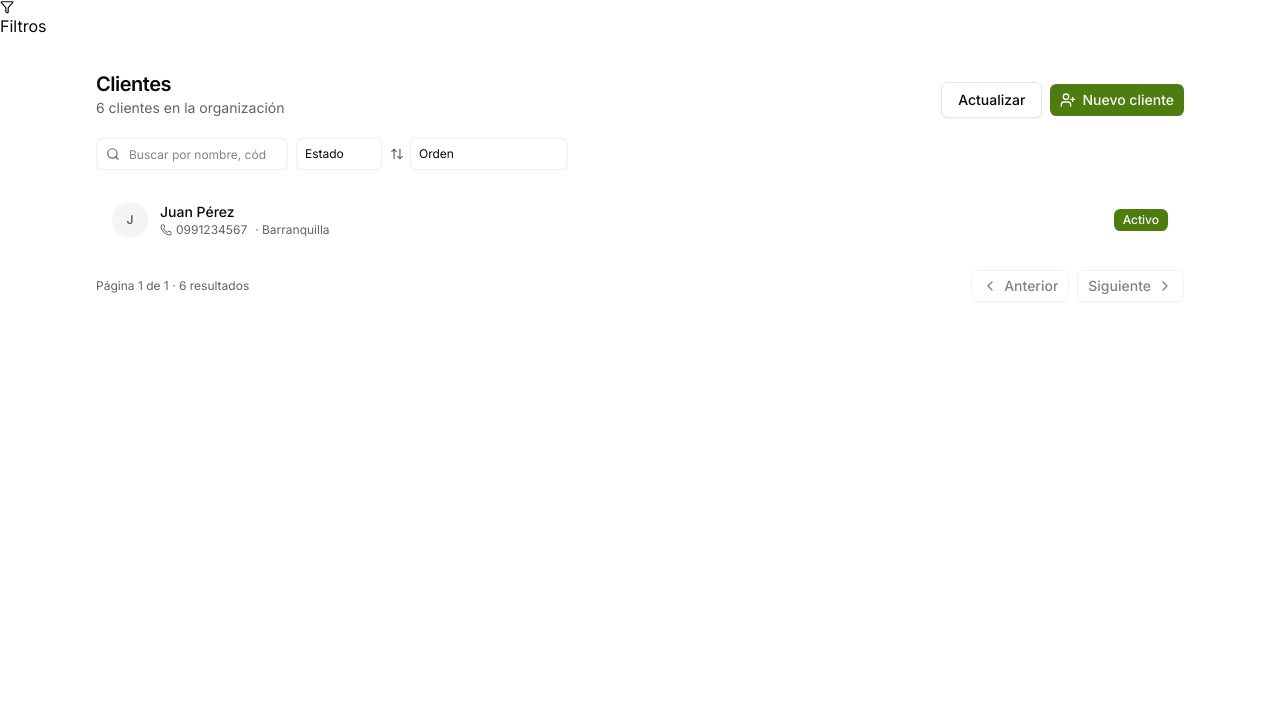
Clientes + filtro global: borrador y aplicación (FR-005) › el badge no cuenta el borrador y sí lo aplicado
Click the button "Filtros" at (23,19), box left=0, top=0, right=46, bottom=38
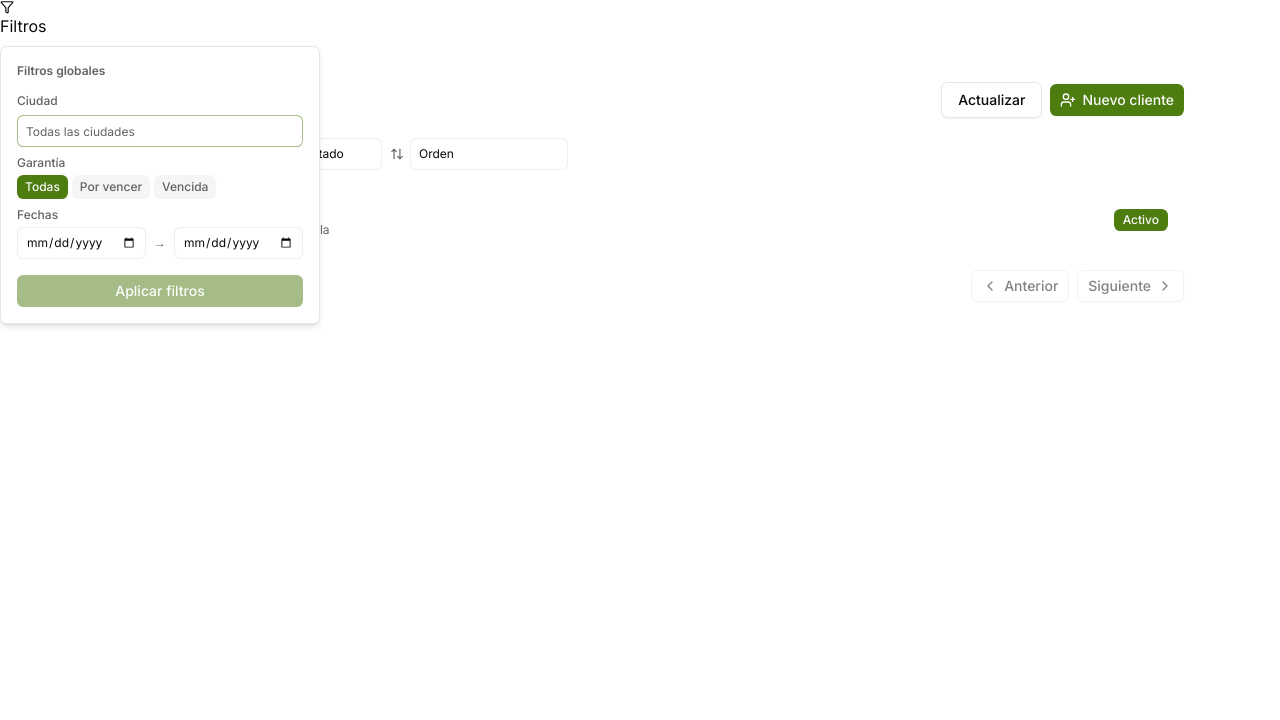
Check: the field labelled "Ciudad" is shown
Type "Barranquilla" into the field labelled "Ciudad" at (160,131), box left=17, top=115, right=303, bottom=147
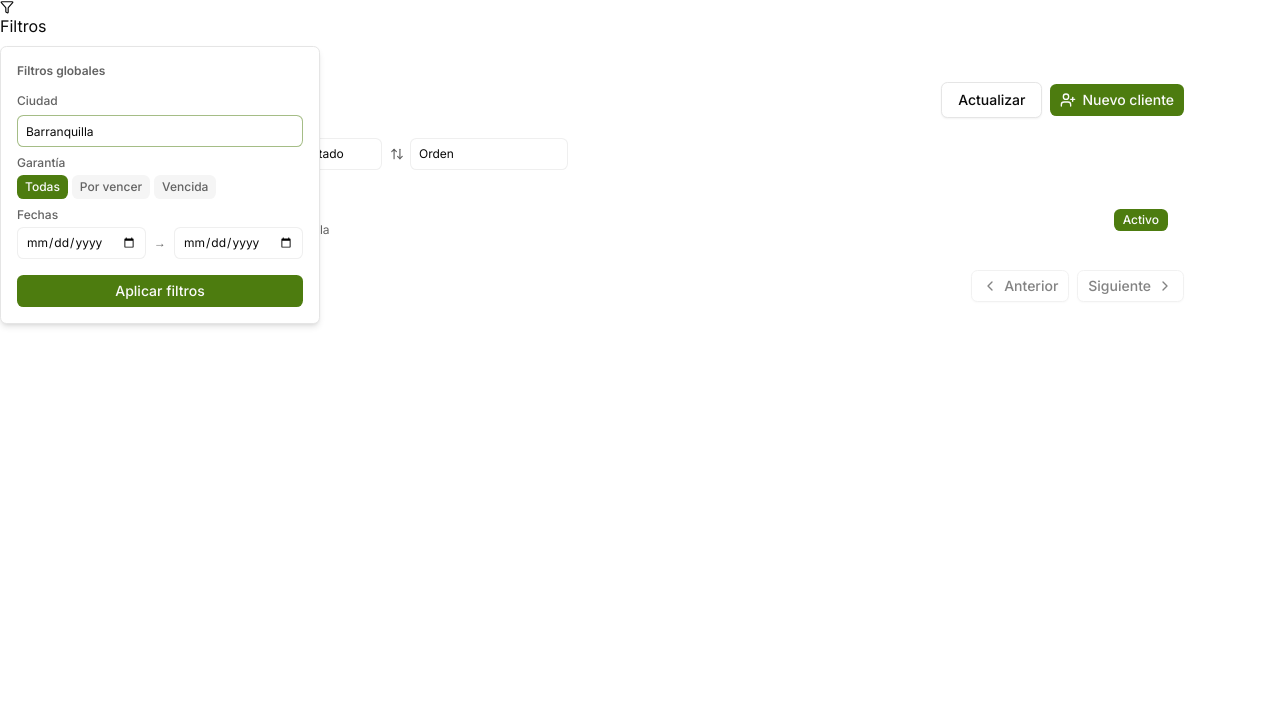
Click the button "Por vencer" at (111,187), box left=72, top=175, right=150, bottom=199
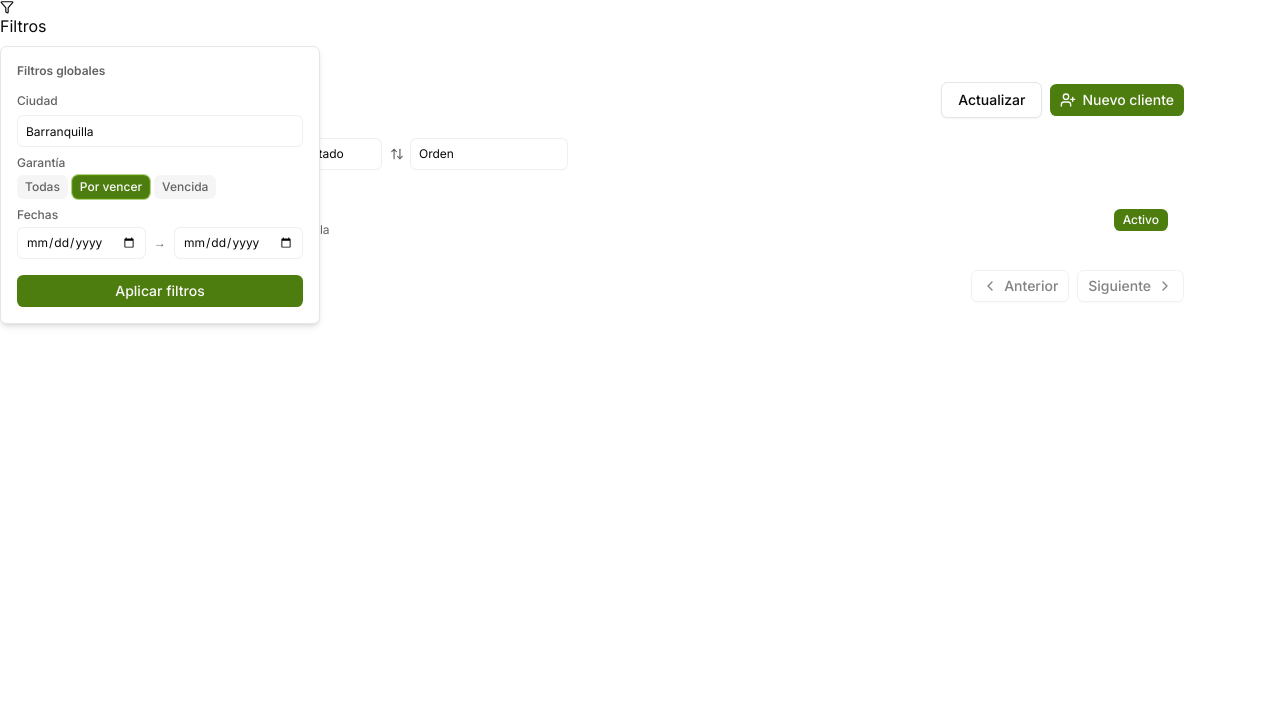
Click the button "Aplicar filtros" at (160,291), box left=17, top=275, right=303, bottom=307
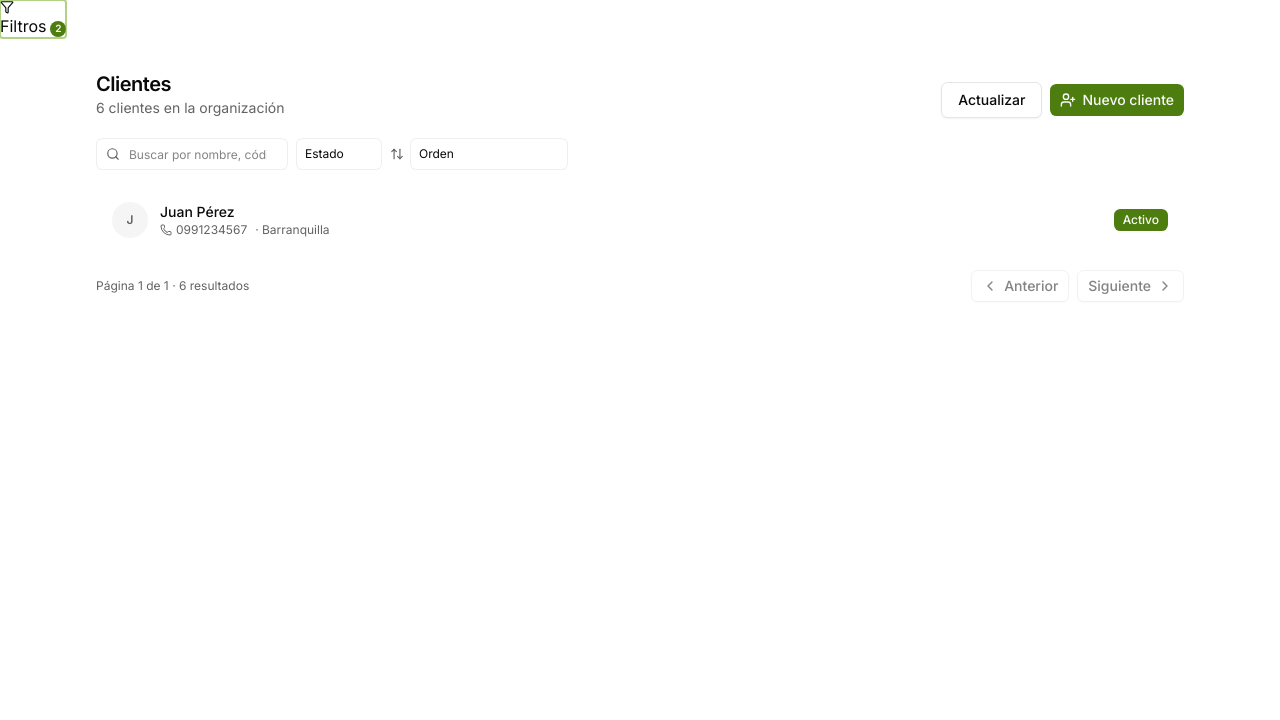
Check: the text with test id "global-filter-count" reads "2", box left=55, top=22, right=62, bottom=34
